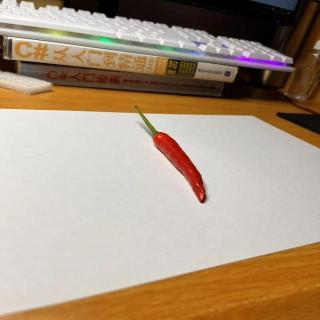Cabai Merah: (135, 106, 207, 204)
